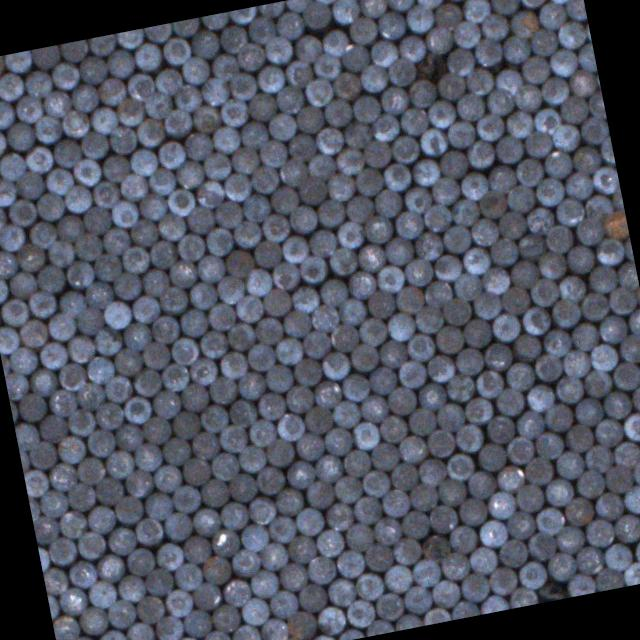tool: (572, 542, 606, 576), (458, 570, 491, 604), (399, 508, 432, 541), (286, 607, 319, 640), (218, 422, 250, 456), (368, 438, 400, 472), (477, 188, 509, 222), (389, 459, 421, 492), (202, 225, 234, 258), (18, 318, 50, 351), (448, 196, 481, 228), (198, 475, 230, 508), (348, 341, 381, 373), (224, 319, 256, 352), (215, 274, 247, 307), (426, 502, 458, 535), (268, 184, 300, 217), (525, 530, 557, 563), (46, 310, 78, 343), (14, 239, 46, 272), (486, 163, 518, 196), (435, 70, 468, 102), (508, 8, 540, 41), (458, 170, 491, 202), (297, 173, 330, 205), (345, 266, 376, 300), (282, 382, 314, 414), (327, 322, 359, 354), (105, 598, 137, 630), (396, 434, 428, 466), (258, 212, 290, 244), (438, 549, 470, 581), (394, 285, 426, 317), (582, 516, 614, 548), (226, 472, 258, 504), (208, 373, 240, 405), (372, 590, 404, 622), (387, 385, 419, 417), (146, 240, 178, 272), (66, 482, 98, 514), (168, 336, 200, 368), (563, 494, 595, 526), (335, 548, 367, 580), (120, 393, 152, 425), (320, 96, 352, 128), (533, 176, 565, 208), (482, 340, 514, 372), (190, 580, 222, 612), (292, 354, 324, 386), (210, 450, 242, 482), (256, 138, 288, 170), (131, 442, 163, 474), (232, 292, 264, 324), (182, 608, 214, 640), (85, 578, 117, 610), (294, 506, 326, 538), (594, 418, 626, 450), (522, 454, 554, 486), (248, 568, 280, 600), (528, 275, 560, 307), (384, 312, 416, 344), (294, 430, 326, 462), (455, 92, 487, 124), (170, 483, 202, 515), (200, 554, 232, 586), (132, 514, 164, 546), (133, 117, 165, 149), (586, 263, 618, 295), (572, 396, 604, 428), (550, 296, 582, 328), (262, 34, 294, 66), (260, 285, 292, 317), (278, 562, 310, 594), (296, 582, 328, 614), (258, 538, 290, 570), (505, 433, 537, 465), (70, 156, 102, 188), (554, 522, 586, 554), (162, 510, 194, 542), (353, 570, 385, 602), (268, 588, 300, 620), (188, 356, 220, 388), (284, 532, 316, 564), (514, 482, 546, 514), (75, 530, 107, 562), (134, 593, 166, 625), (76, 604, 108, 636), (210, 603, 242, 635), (66, 560, 98, 592), (308, 226, 340, 258), (407, 480, 439, 512), (406, 406, 438, 438), (36, 262, 68, 294), (578, 290, 610, 322), (500, 284, 532, 316), (454, 422, 486, 454), (238, 521, 270, 553), (112, 346, 144, 378), (340, 43, 372, 75), (412, 304, 444, 336), (303, 404, 335, 436), (596, 314, 628, 346), (76, 54, 108, 86), (383, 234, 415, 266), (600, 388, 632, 420), (158, 285, 190, 317), (582, 444, 614, 476), (255, 464, 287, 496), (538, 74, 570, 106), (520, 54, 552, 86), (496, 536, 528, 568), (608, 283, 640, 315), (594, 235, 626, 267), (492, 132, 524, 164), (90, 252, 122, 284), (404, 2, 436, 34), (568, 144, 600, 176), (564, 244, 596, 276), (36, 411, 68, 443), (562, 170, 594, 202), (90, 178, 122, 210), (542, 327, 574, 359), (362, 542, 394, 574), (542, 148, 574, 180), (44, 166, 76, 198), (141, 489, 173, 521), (582, 367, 614, 399), (204, 300, 236, 332), (566, 68, 598, 100), (172, 158, 204, 190), (244, 92, 276, 124), (246, 12, 278, 44), (140, 90, 172, 122), (579, 114, 611, 146), (602, 464, 634, 496), (51, 138, 83, 170), (515, 559, 547, 591), (444, 370, 476, 402), (284, 58, 316, 90), (223, 248, 255, 280), (556, 20, 588, 52), (472, 290, 504, 322), (344, 192, 376, 224), (123, 70, 155, 102), (190, 103, 222, 135), (226, 70, 258, 102), (118, 243, 149, 276), (140, 339, 171, 372), (422, 202, 453, 235), (429, 175, 460, 208), (554, 449, 585, 482), (460, 316, 491, 349), (189, 429, 220, 462), (105, 47, 136, 80), (432, 323, 463, 356), (183, 202, 214, 235), (115, 94, 146, 127), (191, 26, 222, 59), (92, 324, 123, 357), (504, 182, 535, 215), (523, 204, 554, 237), (199, 402, 230, 434), (182, 533, 213, 565), (318, 348, 349, 380), (466, 138, 497, 170), (12, 94, 44, 125), (272, 337, 304, 368), (102, 300, 133, 332), (122, 467, 154, 498), (103, 374, 134, 406), (172, 560, 203, 592), (314, 452, 345, 484), (374, 263, 405, 295), (178, 381, 209, 413), (356, 315, 387, 347), (57, 509, 88, 541), (125, 546, 156, 578), (55, 433, 86, 465), (468, 543, 499, 575), (85, 502, 116, 534), (86, 427, 118, 458), (264, 363, 295, 395), (200, 150, 232, 181), (307, 554, 338, 586), (14, 168, 45, 200), (487, 564, 518, 596), (343, 521, 374, 553), (94, 400, 125, 432), (254, 62, 285, 94), (60, 106, 91, 138), (242, 268, 273, 300), (405, 332, 436, 364), (438, 149, 469, 181), (352, 494, 383, 526), (362, 138, 393, 170), (475, 110, 506, 142), (155, 138, 186, 170), (377, 412, 408, 444), (382, 562, 413, 594), (105, 448, 136, 480), (73, 230, 104, 262), (427, 98, 458, 130), (379, 488, 410, 520), (218, 98, 249, 130), (162, 108, 194, 139), (547, 550, 578, 582), (208, 527, 240, 558), (400, 584, 431, 616), (328, 244, 359, 276), (341, 371, 372, 403), (332, 474, 363, 506), (305, 479, 336, 511), (418, 456, 449, 488), (398, 106, 429, 138), (453, 345, 484, 377), (140, 413, 171, 445), (112, 420, 143, 452), (62, 183, 94, 214), (542, 401, 573, 433), (155, 210, 186, 242), (95, 553, 126, 585), (560, 346, 591, 378), (408, 558, 439, 590), (333, 146, 365, 177), (64, 258, 96, 289), (100, 224, 131, 256), (162, 34, 193, 66), (406, 78, 437, 110), (316, 604, 347, 636), (532, 352, 563, 384), (38, 487, 69, 519), (34, 192, 65, 224), (476, 442, 507, 474), (119, 172, 150, 204), (435, 402, 466, 434), (479, 266, 510, 298), (391, 134, 422, 166), (93, 476, 124, 508), (391, 536, 422, 568), (486, 414, 517, 446), (280, 307, 311, 339), (432, 250, 463, 282), (178, 306, 209, 338), (286, 457, 317, 489), (514, 156, 545, 188), (564, 423, 596, 454), (372, 515, 403, 547), (494, 386, 525, 418), (252, 239, 284, 270), (218, 348, 250, 379), (229, 546, 260, 578), (308, 302, 339, 334), (183, 131, 214, 163), (414, 230, 445, 262), (84, 280, 115, 312), (508, 259, 539, 291), (302, 77, 333, 109), (155, 541, 186, 573), (264, 438, 295, 470), (122, 320, 153, 352), (409, 156, 441, 187), (387, 54, 418, 86), (74, 380, 105, 412), (350, 94, 381, 126), (172, 81, 204, 112), (318, 276, 349, 308), (191, 506, 222, 538), (80, 205, 111, 237), (42, 88, 74, 119), (534, 506, 566, 537), (536, 250, 567, 282), (402, 184, 433, 216), (342, 119, 373, 151), (137, 190, 168, 222), (312, 377, 343, 409), (447, 46, 478, 78), (292, 33, 324, 64), (152, 65, 184, 96), (331, 70, 362, 102), (492, 66, 524, 97), (288, 203, 318, 236), (468, 215, 498, 248), (506, 509, 536, 542), (440, 222, 470, 255), (359, 212, 392, 242), (504, 359, 534, 392), (222, 172, 252, 205), (474, 368, 504, 401), (590, 164, 621, 195), (489, 236, 520, 267), (27, 439, 58, 470), (232, 217, 263, 248), (427, 427, 458, 458), (451, 20, 482, 51), (313, 527, 344, 558), (293, 105, 324, 136), (457, 496, 488, 527), (589, 342, 620, 373), (195, 253, 226, 284), (109, 199, 140, 230), (236, 442, 267, 473), (439, 297, 470, 328), (448, 524, 479, 555), (275, 84, 306, 115), (168, 259, 199, 290), (337, 297, 368, 328), (106, 125, 137, 156), (238, 597, 269, 628), (18, 392, 49, 423), (361, 469, 392, 500), (444, 452, 475, 483), (5, 122, 36, 153), (446, 118, 477, 149), (461, 245, 492, 276), (86, 354, 117, 385), (312, 125, 343, 156), (152, 463, 183, 494), (48, 535, 79, 566), (27, 289, 58, 320), (164, 587, 195, 618), (519, 305, 550, 336), (378, 85, 409, 116), (464, 394, 495, 425), (478, 518, 509, 549), (369, 112, 400, 143), (24, 68, 55, 99), (452, 272, 483, 303), (198, 75, 229, 106), (23, 143, 54, 174), (7, 270, 38, 301), (423, 26, 454, 57), (312, 51, 343, 82), (128, 146, 159, 177), (466, 66, 497, 97), (511, 332, 542, 363), (55, 212, 86, 243), (76, 305, 107, 336), (321, 29, 352, 60), (501, 34, 532, 65), (569, 321, 600, 352), (194, 180, 225, 211), (466, 468, 496, 500), (150, 313, 180, 345), (490, 312, 520, 344), (424, 354, 456, 384), (48, 460, 78, 492), (180, 54, 210, 86), (324, 500, 354, 532), (276, 412, 306, 444), (160, 435, 190, 467), (324, 424, 354, 456), (404, 256, 434, 288), (248, 165, 278, 197), (556, 196, 586, 228), (76, 456, 108, 486), (496, 208, 526, 240), (152, 386, 182, 418), (114, 493, 144, 525), (160, 361, 190, 393), (358, 392, 388, 424), (48, 60, 78, 92), (7, 198, 37, 230), (266, 110, 296, 142), (356, 241, 386, 273), (351, 420, 381, 452), (274, 487, 304, 519), (280, 234, 310, 266), (430, 576, 460, 608), (358, 62, 388, 94), (576, 466, 606, 498), (113, 270, 143, 302), (132, 367, 162, 399), (248, 494, 278, 526), (394, 210, 424, 242), (130, 294, 160, 326), (346, 596, 376, 628), (98, 76, 128, 108), (164, 188, 196, 218), (326, 576, 356, 608), (506, 108, 536, 140), (230, 143, 260, 175), (550, 120, 580, 152), (544, 223, 574, 255), (172, 409, 202, 441), (514, 408, 544, 440), (286, 132, 316, 164), (45, 238, 75, 270), (226, 396, 256, 428), (604, 540, 634, 572), (594, 490, 624, 522), (238, 120, 268, 152), (316, 198, 348, 228), (575, 216, 605, 248), (276, 8, 306, 40), (108, 524, 138, 556), (278, 158, 308, 190), (218, 22, 248, 54), (582, 194, 614, 224), (220, 500, 250, 531), (485, 490, 516, 520), (244, 342, 275, 372), (396, 359, 426, 390), (368, 365, 398, 396), (128, 218, 159, 248), (211, 124, 242, 154), (33, 114, 64, 144), (88, 105, 118, 136), (334, 220, 364, 251), (117, 572, 148, 602), (331, 400, 362, 430), (268, 515, 298, 546), (143, 566, 174, 596), (70, 81, 100, 112), (182, 455, 212, 486), (298, 253, 328, 284), (197, 328, 228, 358), (437, 476, 468, 506), (242, 192, 272, 223), (9, 346, 40, 376), (367, 290, 398, 320), (220, 578, 251, 608), (47, 388, 78, 418), (253, 316, 284, 346), (236, 42, 266, 73), (472, 36, 503, 66), (255, 390, 286, 420), (348, 14, 378, 45), (188, 282, 219, 312), (558, 94, 588, 125), (536, 0, 566, 31), (376, 10, 407, 40), (58, 361, 88, 392), (238, 369, 268, 400), (213, 198, 244, 228), (0, 297, 30, 328), (352, 168, 383, 198), (378, 337, 408, 368), (248, 418, 278, 449), (38, 338, 68, 369), (326, 172, 356, 203), (525, 384, 556, 414), (132, 42, 162, 73), (28, 367, 58, 398), (418, 382, 448, 413), (512, 82, 542, 113), (146, 166, 176, 197), (290, 283, 320, 314), (372, 188, 402, 219), (424, 280, 455, 310), (484, 85, 514, 116), (421, 532, 452, 562), (516, 232, 547, 262), (611, 359, 640, 391), (301, 0, 333, 29), (601, 209, 630, 241), (176, 232, 206, 262), (80, 130, 110, 160), (535, 429, 565, 459), (270, 262, 300, 292), (58, 586, 88, 616), (548, 48, 578, 78), (67, 406, 97, 436), (302, 328, 332, 358), (382, 162, 412, 192), (210, 52, 240, 82), (66, 334, 96, 364), (480, 11, 510, 41), (140, 268, 170, 298), (529, 26, 559, 56), (28, 219, 58, 249), (544, 476, 574, 506), (100, 152, 130, 182), (418, 128, 448, 158), (342, 448, 372, 478), (495, 463, 525, 493), (370, 38, 400, 68), (554, 374, 584, 404), (306, 153, 336, 183), (524, 129, 554, 159), (556, 272, 586, 302), (397, 34, 427, 64), (56, 288, 86, 318), (530, 105, 560, 135), (432, 1, 463, 30), (612, 440, 640, 471), (32, 514, 59, 546), (42, 566, 70, 596), (0, 222, 27, 253), (153, 613, 184, 640), (14, 419, 40, 450), (0, 152, 26, 183), (614, 511, 640, 542), (594, 566, 625, 592), (329, 0, 360, 26), (566, 572, 596, 598), (4, 370, 30, 400), (24, 468, 50, 498), (258, 615, 289, 640), (30, 45, 61, 70), (0, 71, 24, 103), (52, 613, 80, 640), (460, 0, 491, 24), (59, 40, 89, 64), (617, 261, 640, 292), (618, 331, 640, 363), (2, 51, 32, 74), (86, 34, 116, 57), (114, 28, 144, 50), (506, 586, 536, 608), (452, 598, 481, 620), (576, 42, 597, 72), (356, 0, 387, 20), (0, 247, 19, 279), (0, 324, 20, 354), (586, 90, 606, 120), (422, 606, 452, 626), (479, 594, 509, 614), (621, 410, 640, 441), (145, 23, 173, 44), (393, 612, 422, 632), (622, 484, 640, 516), (126, 621, 156, 640), (364, 618, 394, 637), (172, 18, 200, 38), (228, 622, 259, 640), (0, 176, 18, 207), (563, 0, 587, 23), (598, 136, 616, 166), (621, 560, 640, 587), (230, 7, 258, 25), (201, 12, 229, 30), (488, 0, 519, 16), (0, 100, 14, 131), (259, 2, 286, 18), (334, 626, 364, 640), (202, 627, 234, 640), (38, 542, 52, 571), (384, 0, 415, 13), (610, 187, 625, 213), (98, 628, 129, 640), (285, 0, 313, 13), (628, 308, 640, 338), (19, 446, 31, 474), (622, 234, 634, 262), (630, 456, 640, 489), (28, 495, 40, 522), (0, 349, 12, 376), (48, 592, 59, 620), (414, 0, 444, 10), (631, 381, 640, 413), (10, 398, 20, 426), (518, 0, 548, 9), (0, 128, 8, 159), (0, 274, 8, 303), (306, 632, 335, 640), (633, 537, 640, 569), (173, 633, 204, 640), (0, 203, 7, 233), (312, 0, 341, 6), (277, 635, 305, 640)
tool_b: (413, 50, 448, 84), (536, 580, 569, 603)
